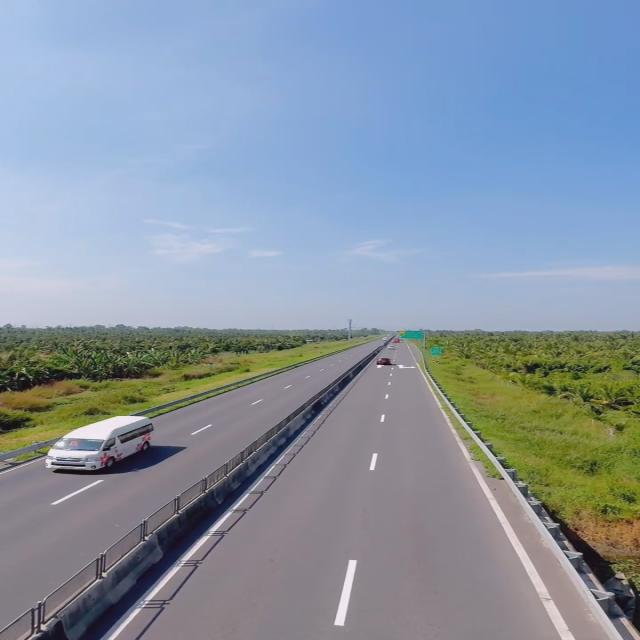car: (41, 411, 158, 471)
